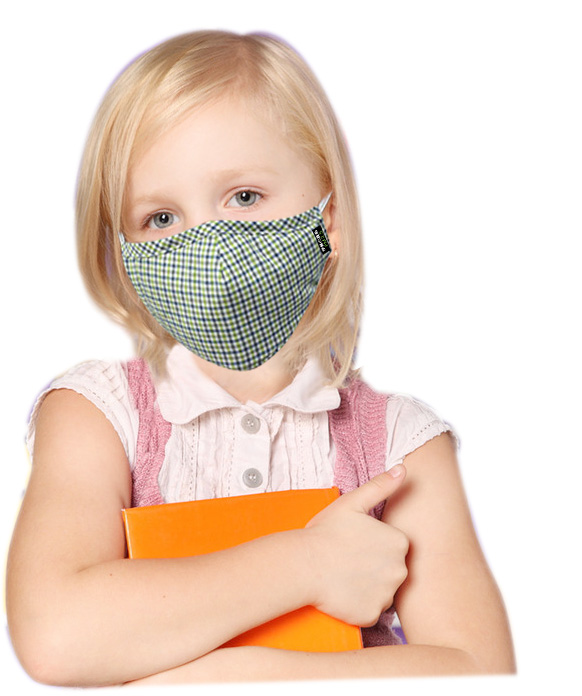face_mask: (119, 145, 330, 371)
